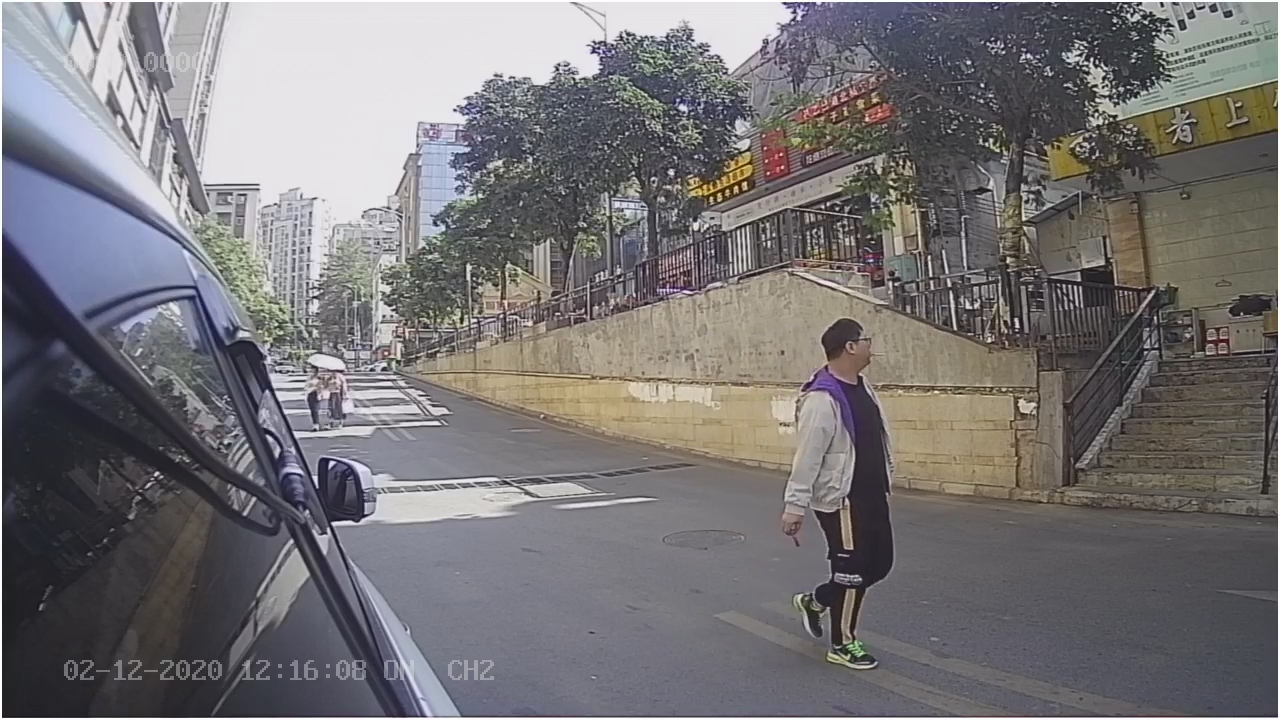person: (774, 307, 901, 672)
